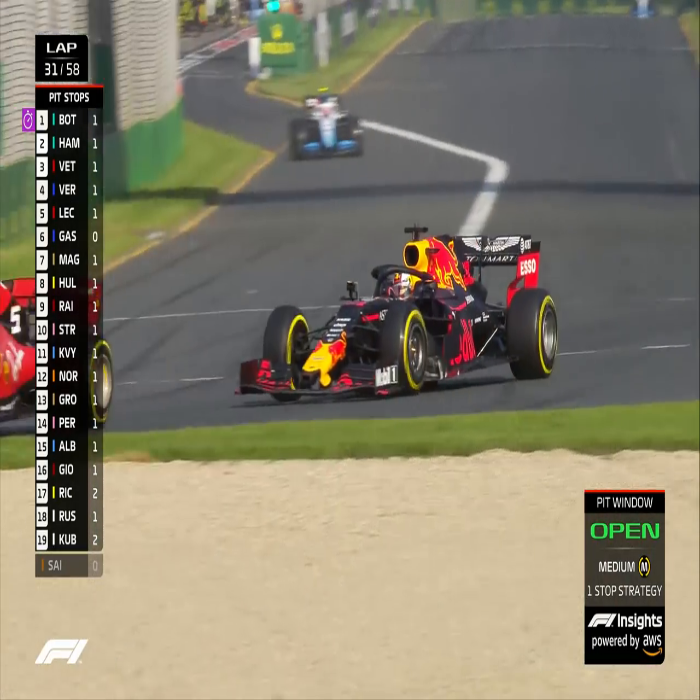f1_car: (224, 215, 605, 424)
